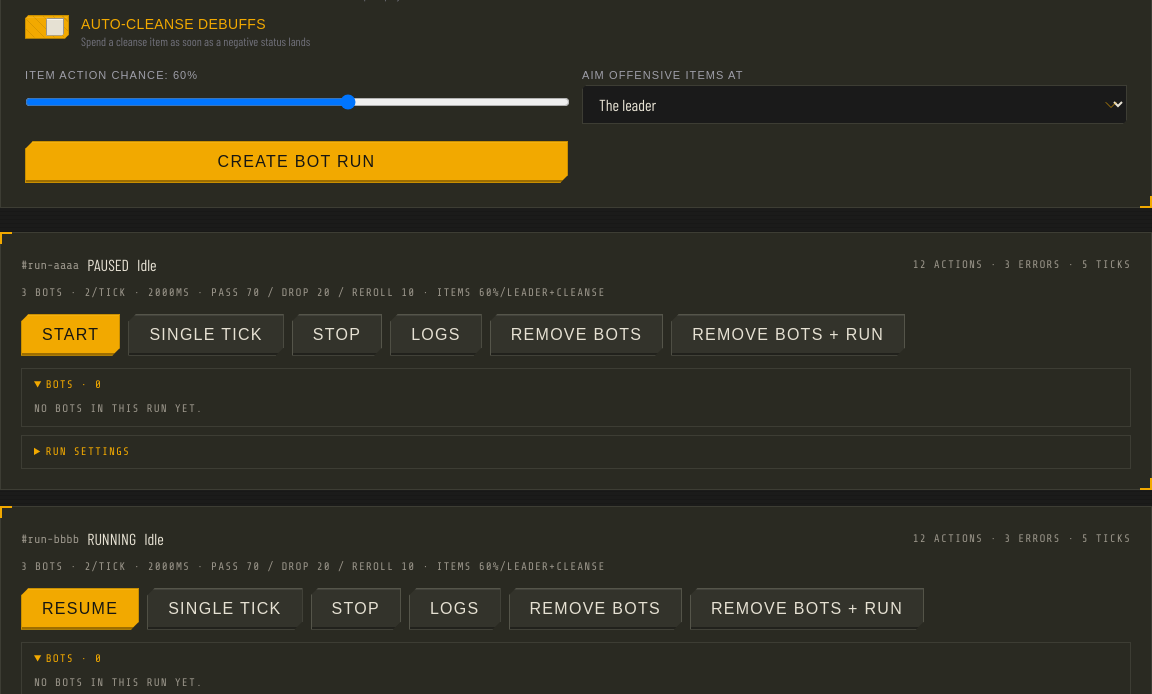
Test case: BotsConsole › resumes a paused run from its Start button and starts ticking it
The image size is (1152, 694).
(page scrolled)
Click the button "Start".
click(71, 334)  # box [21,314,120,356]
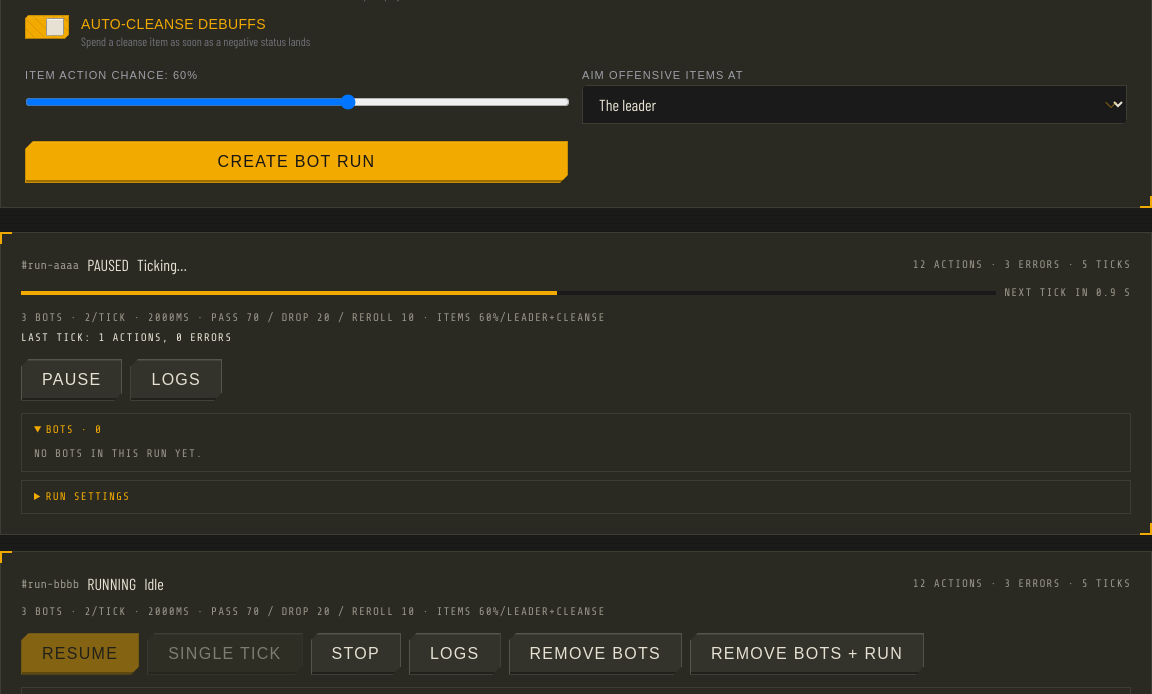
Expected: the text "Ticking…" is shown, [137,253,187,277]
